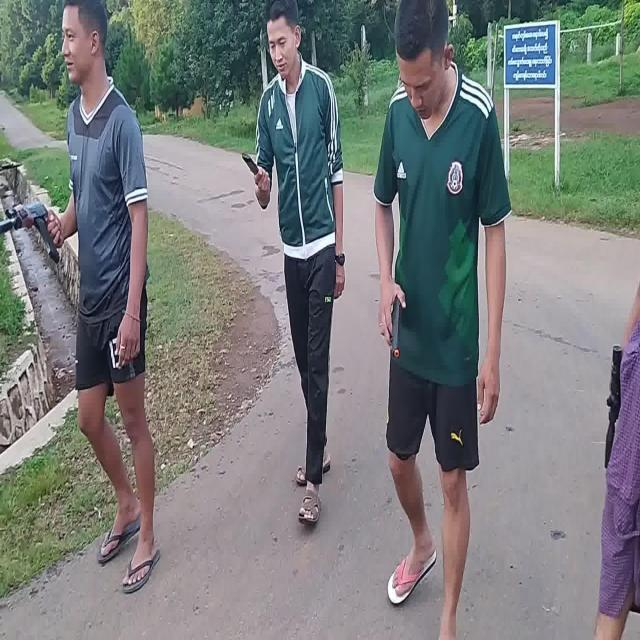gun: (0, 203, 61, 269), (392, 298, 400, 356)
